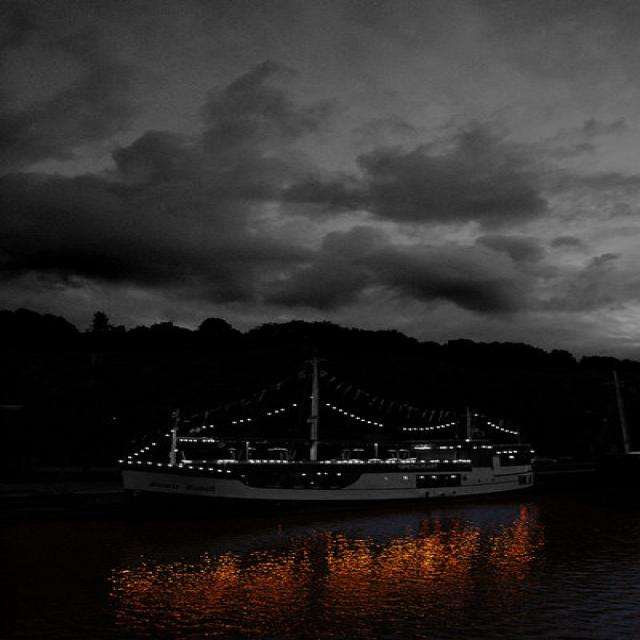Boat: (99, 385, 587, 522)
